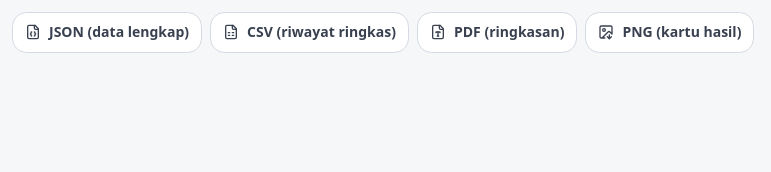
Test: ExportMenu › menonaktifkan semua tombol selama ekspor berjalan
Click the button "JSON (data lengkap)": click(107, 32) [12,12,202,53]
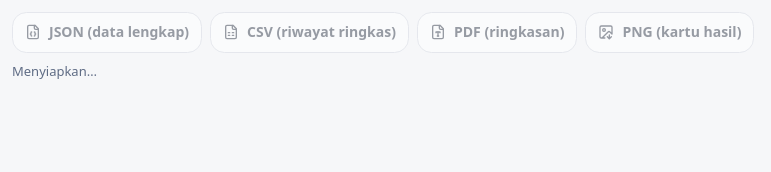
Now the message reads "Menyiapkan…", box [12,62,97,80]
Now the button "JSON (data lengkap)" is disabled, box [12,12,202,53]
Now the button "CSV (riwayat ringkas)" is disabled
Click the button "CSV (riwayat ringkas)": click(310, 32) [210,12,409,53]
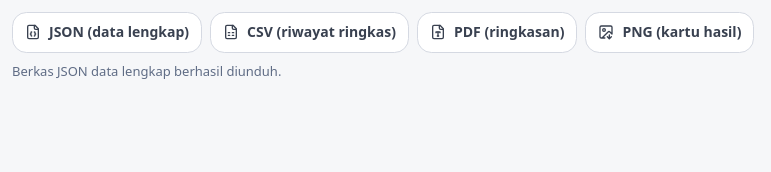
Now the button "JSON (data lengkap)" is enabled, box [12,12,202,53]
Now the button "CSV (riwayat ringkas)" is enabled, box [210,12,409,53]
